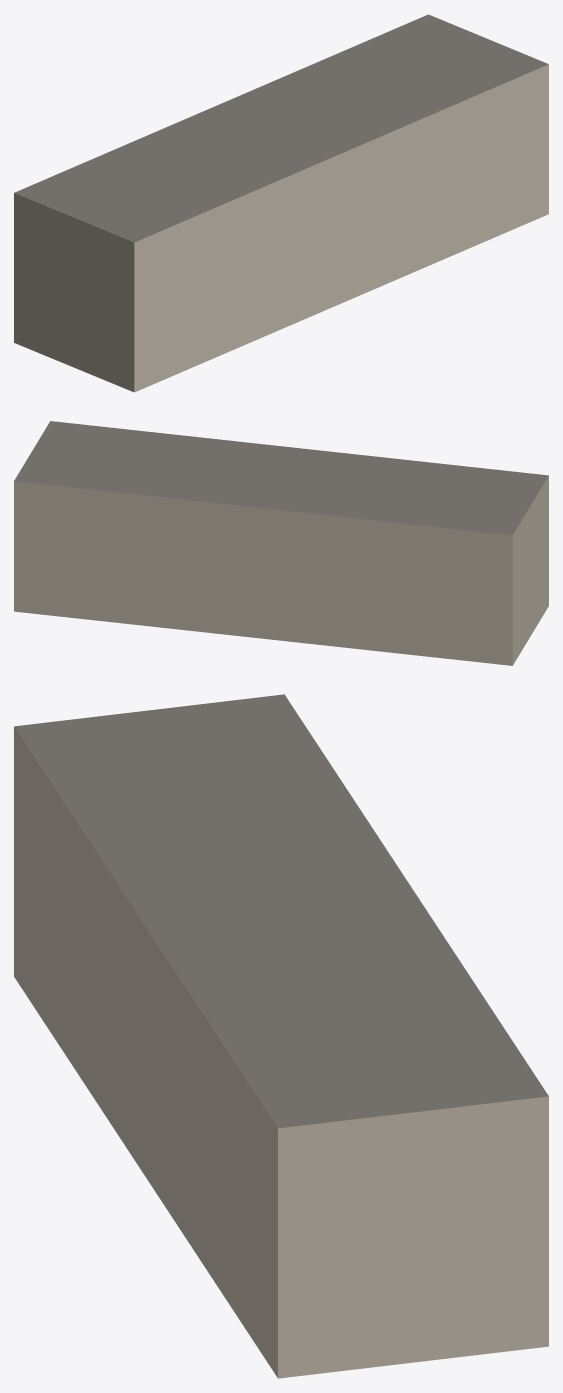
The picture shows the model from 3 angles, top to bottom: view 1: azimuth 30°, elevation 25°; view 2: azimuth 150°, elevation 25°; view 3: azimuth 270°, elevation 25°; orthographic projection. The views are drawn at different scales.
Parts seen in each view (by area): view 1: HP-w1211773149; view 2: HP-w1211773149; view 3: HP-w1211773149.
Part boxes in pixels (x1,y1,x2,y2): HP-w1211773149: (14, 14, 548, 392); HP-w1211773149: (14, 421, 548, 665); HP-w1211773149: (14, 694, 548, 1378).
Bounding box in the file's own units: 66.97 × 18 × 34.88.
